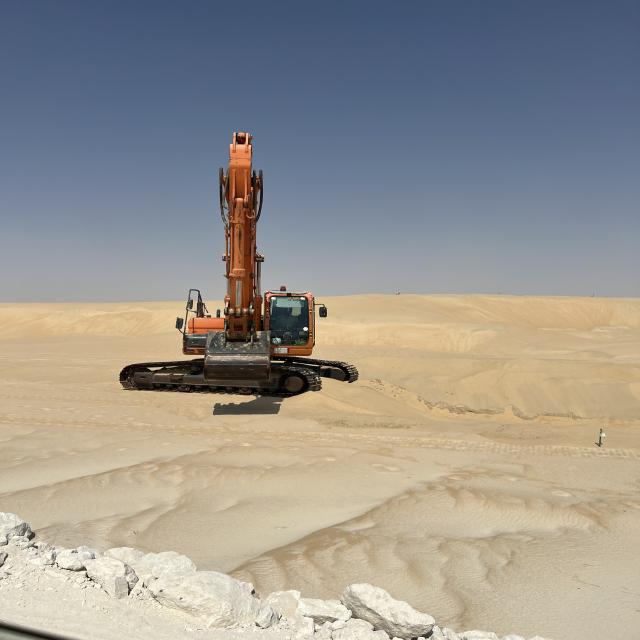excavator: (117, 129, 360, 398)
